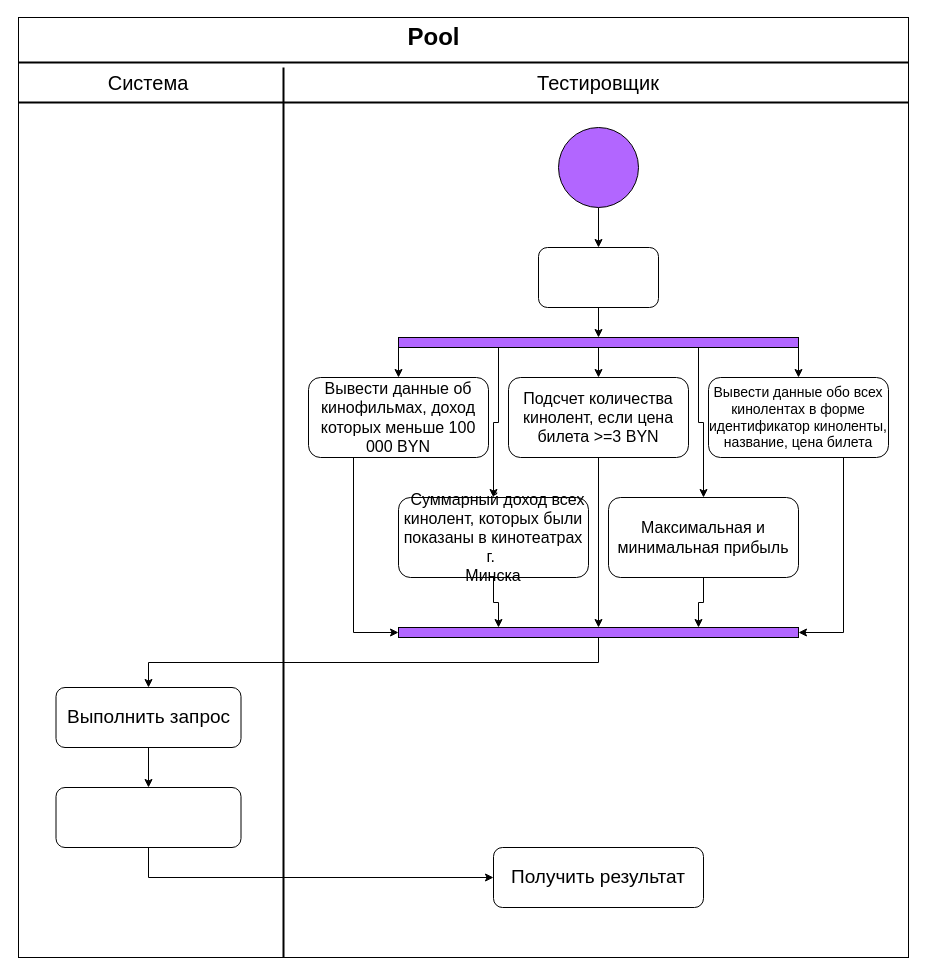
The diagram is 926 pixels wide and 976 high, and some of its shapes have lost their labels. The shapes that lost their labels are listed below. From the top down, each one's centre as x and y in pixels, then its label:
At [598,277]: "Запустить приложение".
At [148,817]: "Вернуть результат".
